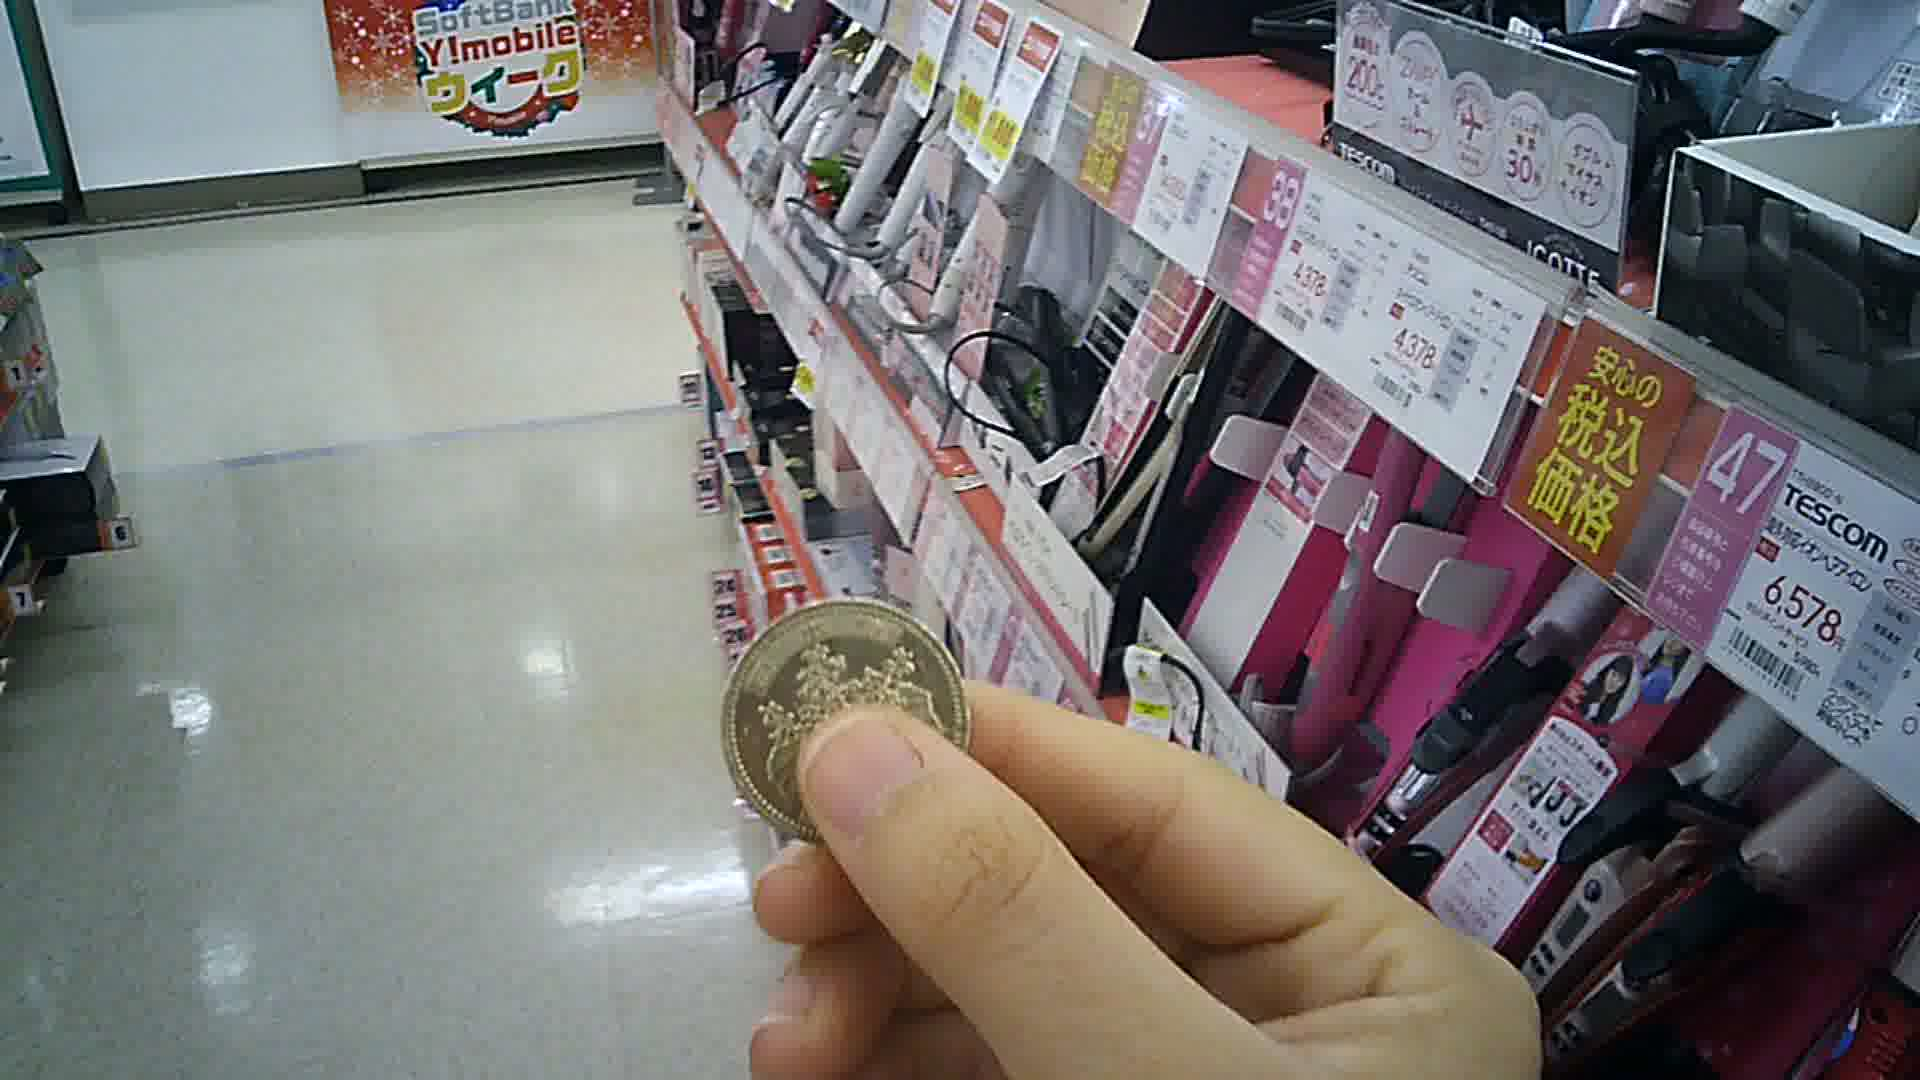500 Yen: (713, 592, 975, 852)
